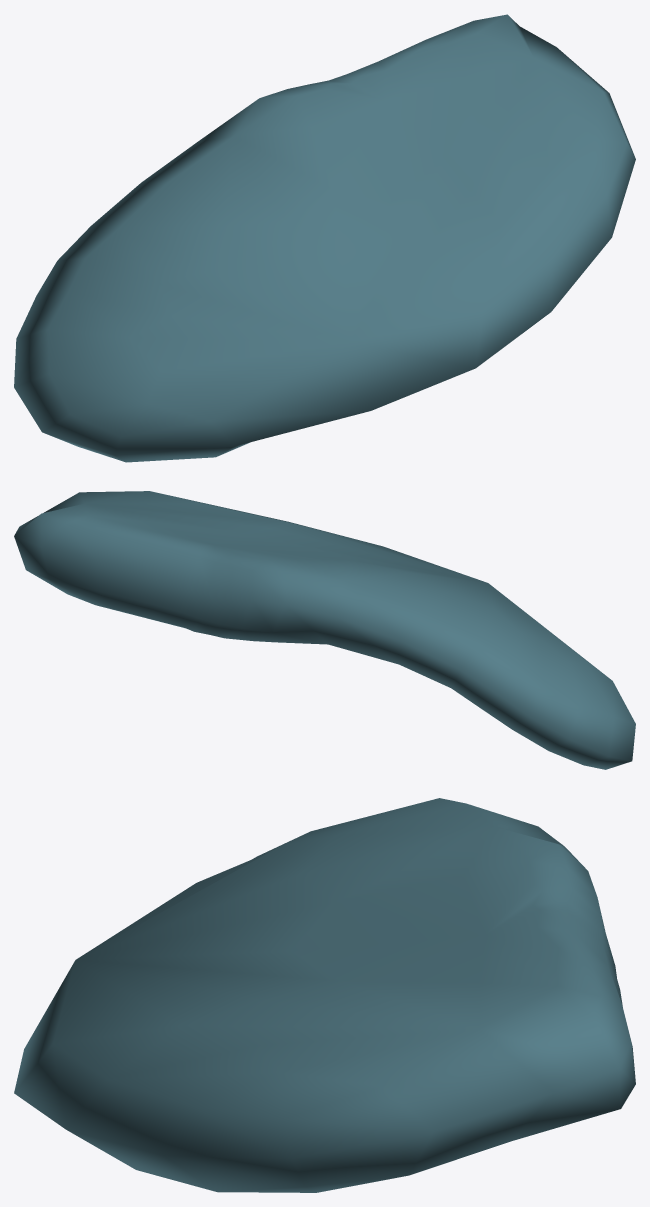
Rendered from Flexor_digitorum_profundus_2nd_finger_distal_phalanx_left.glb.
The picture shows the model from 3 angles, top to bottom: view 1: azimuth 30°, elevation 25°; view 2: azimuth 150°, elevation 25°; view 3: azimuth 270°, elevation 25°; orthographic projection. The views are drawn at different scales.
Visible parts, largest first — view 1: Flexor_digitorum_profundus_on_distal_phalanx_of_2d_finger.l_; view 2: Flexor_digitorum_profundus_on_distal_phalanx_of_2d_finger.l_; view 3: Flexor_digitorum_profundus_on_distal_phalanx_of_2d_finger.l_.
Part boxes in pixels (x1=…): Flexor_digitorum_profundus_on_distal_phalanx_of_2d_finger.l_: x1=14, y1=14, x2=635, y2=462; Flexor_digitorum_profundus_on_distal_phalanx_of_2d_finger.l_: x1=14, y1=491, x2=635, y2=769; Flexor_digitorum_profundus_on_distal_phalanx_of_2d_finger.l_: x1=14, y1=798, x2=635, y2=1192.
Bounding box in the file's own units: 0.00358 × 0.0013 × 0.00208.
